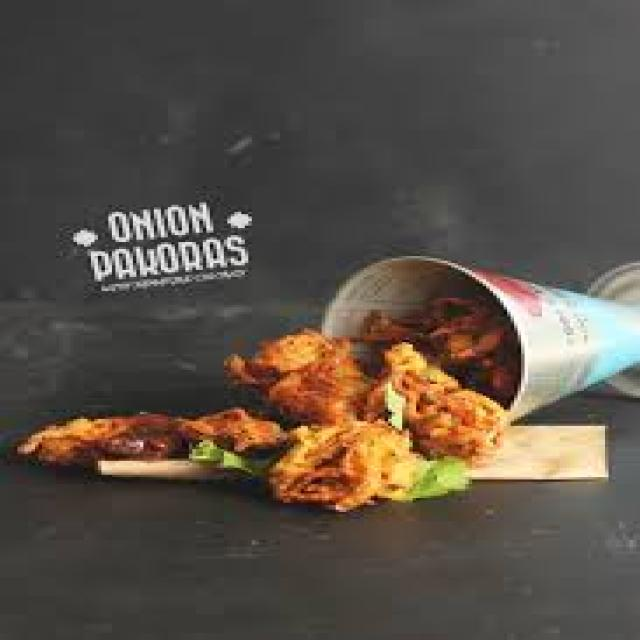BAJI: (367, 355, 506, 464), (234, 330, 358, 430), (266, 426, 417, 505), (26, 422, 189, 463), (190, 412, 277, 444)
